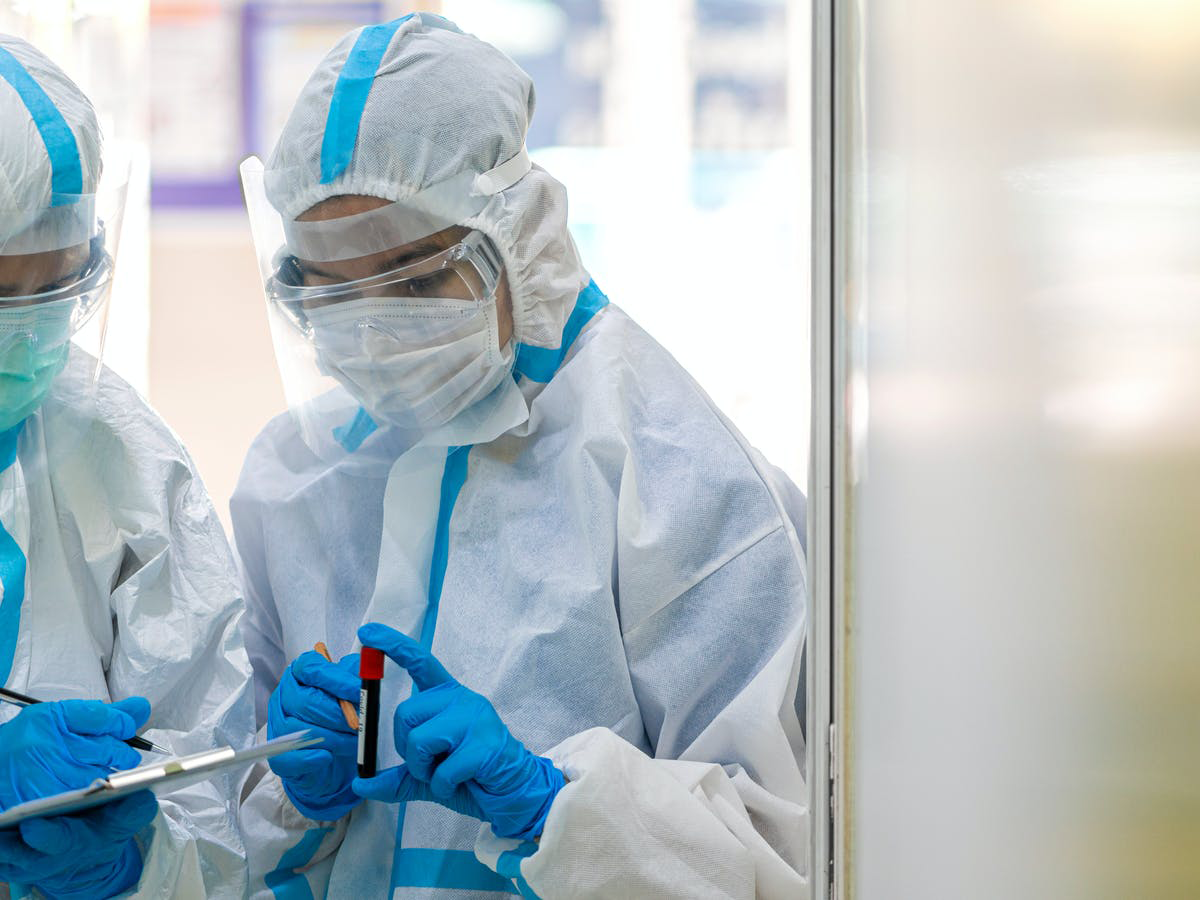Coverall: (245, 369, 806, 900)
Gloves: (353, 613, 585, 864), (1, 673, 154, 807), (260, 634, 363, 830)
Goggles: (258, 242, 510, 342)
with_mask: (293, 253, 508, 433)
